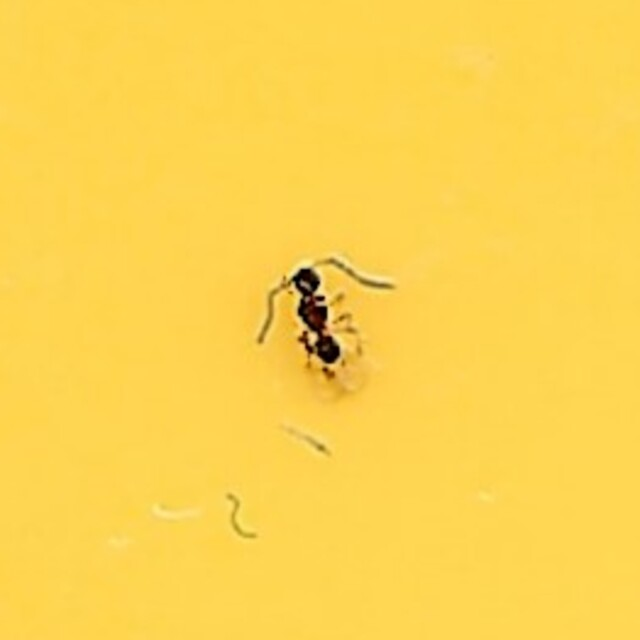Hymenoptera: (244, 249, 396, 391)
